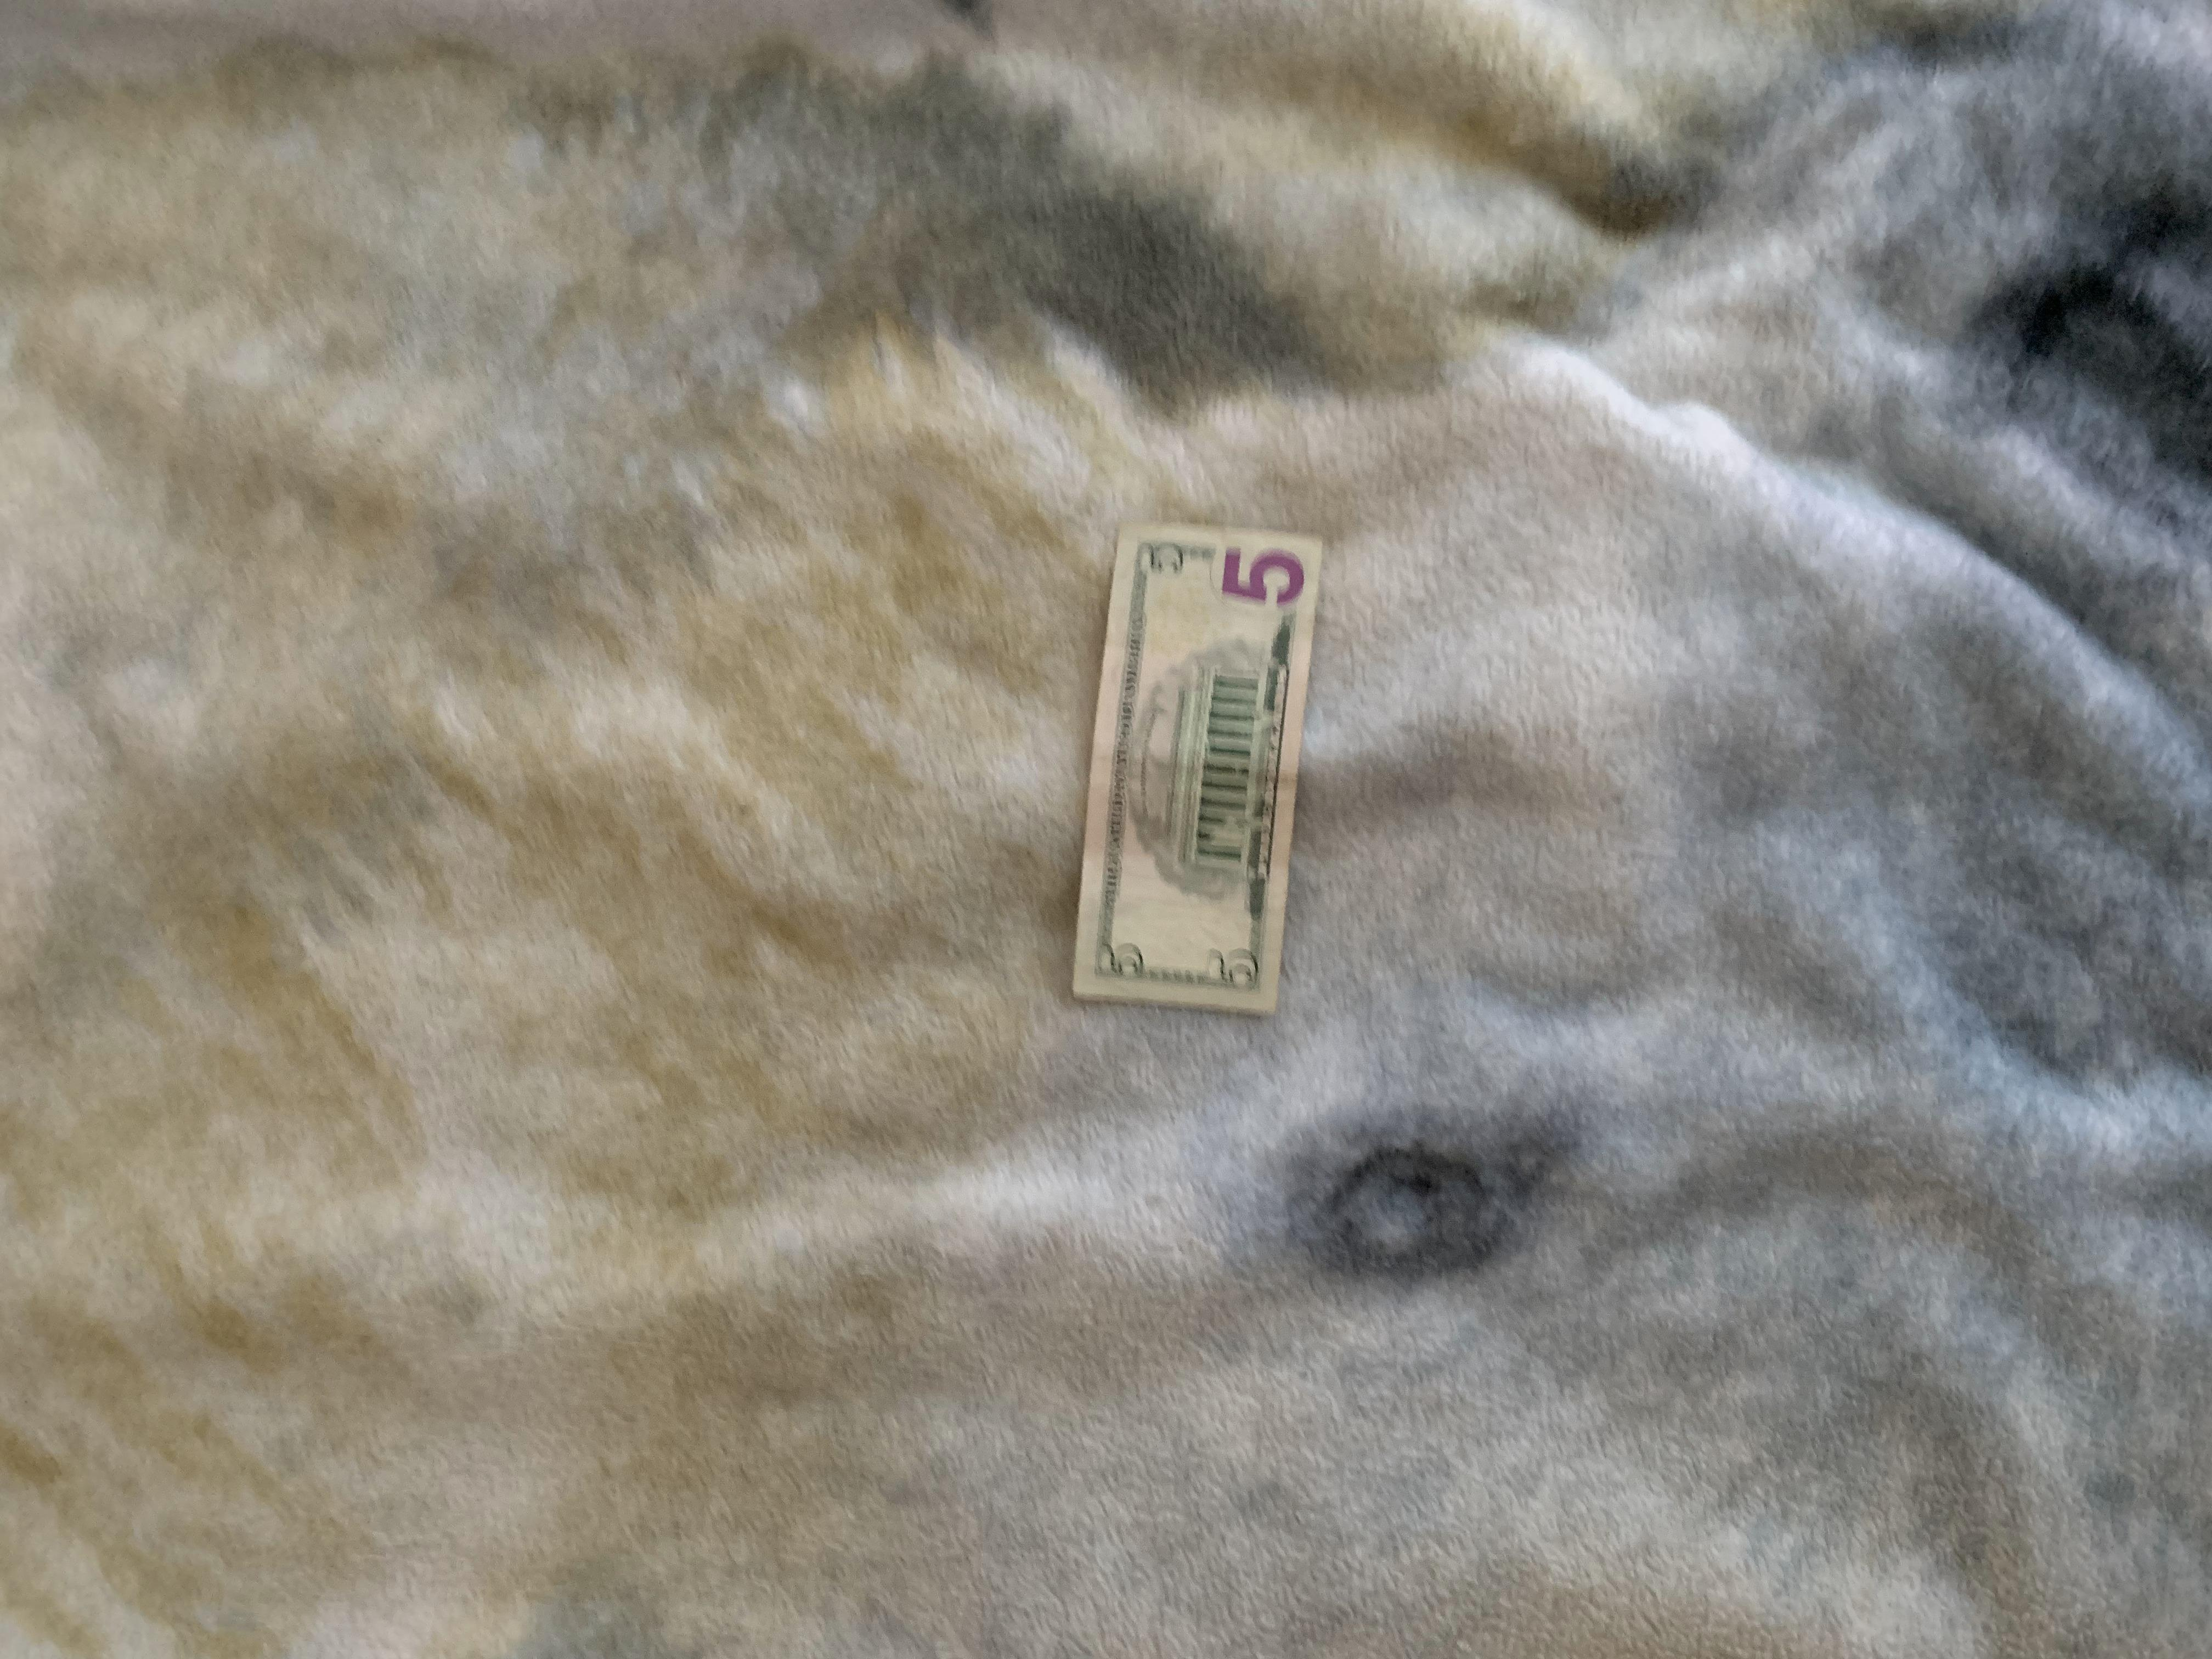FiveBill: (1075, 518, 1331, 1016)
